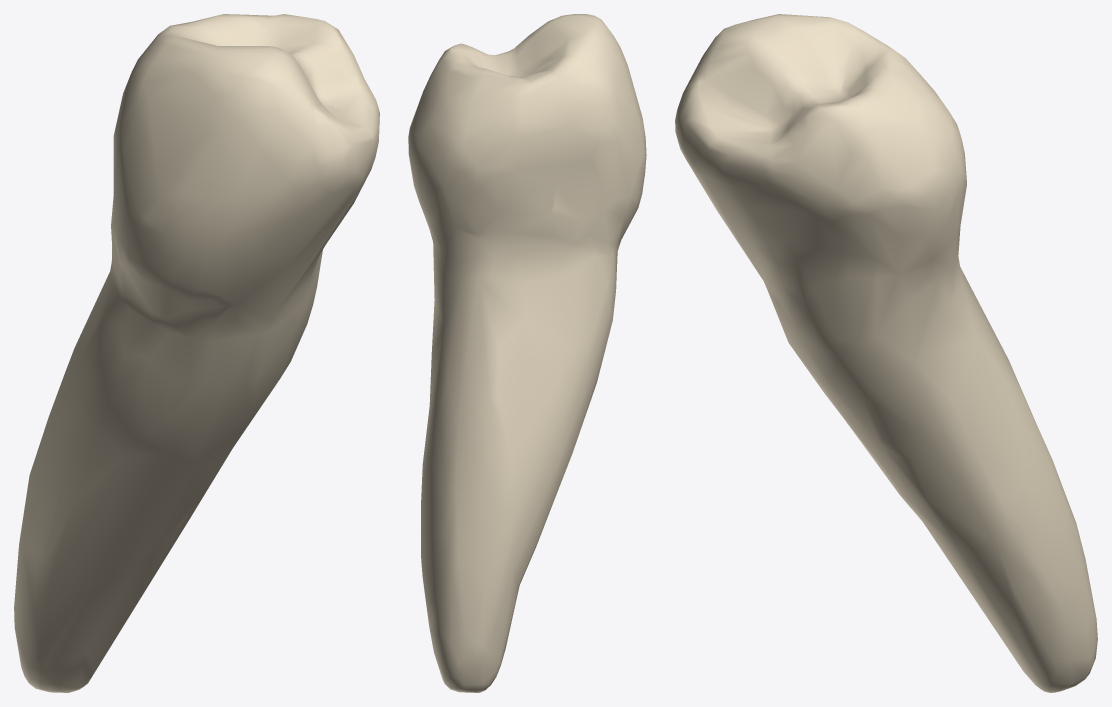
Rendered from lower-second-premolar-r.glb.
The picture shows the model from 3 angles, left to right: view 1: azimuth 30°, elevation 25°; view 2: azimuth 150°, elevation 25°; view 3: azimuth 270°, elevation 25°; orthographic projection. The views are drawn at different scales.
Visible parts, largest first — view 1: Lower second premolar.r; view 2: Lower second premolar.r; view 3: Lower second premolar.r.
Boxes of the visible parts, x1,y1,x2,y2 form: Lower second premolar.r: (14,14,379,692); Lower second premolar.r: (408,14,646,692); Lower second premolar.r: (675,14,1097,692).
Bounding box in the file's own units: 0.00795 × 0.0228 × 0.013.
